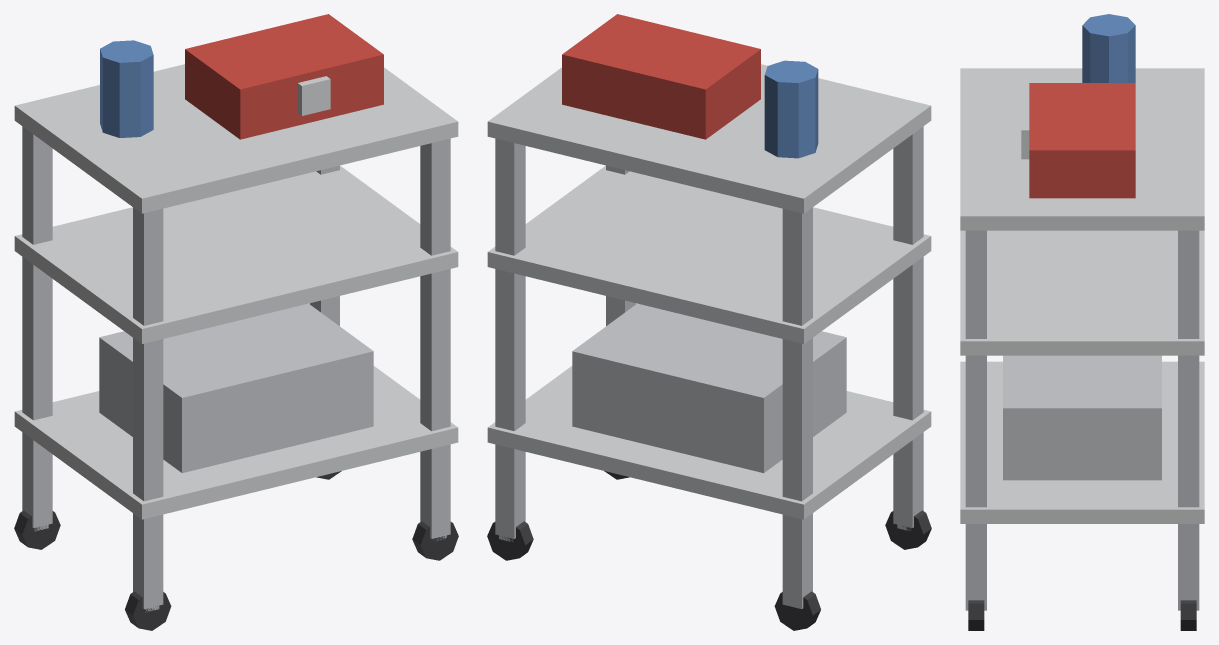
File: SM_Med_Cart.glb
The picture shows the model from 3 angles, left to right: view 1: azimuth 30°, elevation 25°; view 2: azimuth 150°, elevation 25°; view 3: azimuth 270°, elevation 25°; orthographic projection. The views are drawn at different scales.
Parts seen in each view (by area): view 1: SM_Med_Cart; view 2: SM_Med_Cart; view 3: SM_Med_Cart.
Boxes of the visible parts, left/top/right/bottom form: SM_Med_Cart: left=14, top=14, right=458, bottom=630; SM_Med_Cart: left=487, top=14, right=931, bottom=630; SM_Med_Cart: left=960, top=14, right=1204, bottom=630.
Size of the model in its own units: 0.68 by 1.02 by 0.46.
